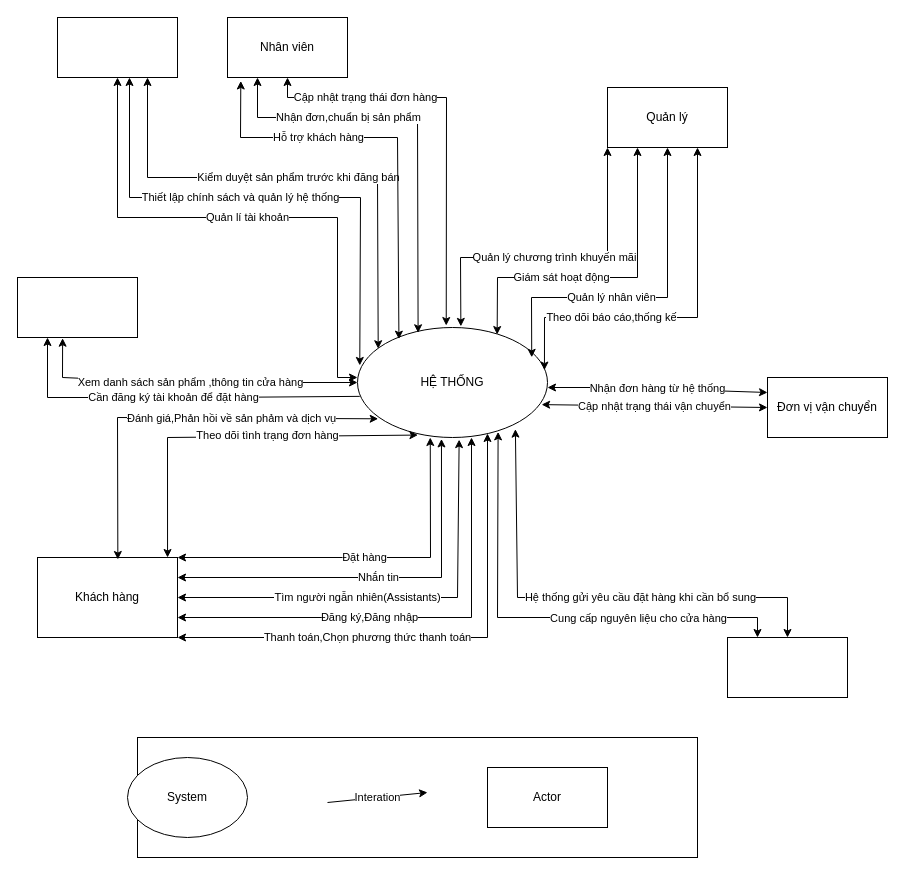
This 905x875 diagram has some shape labels left out. Here are the shapes that lost their labels. From the top down, the centre of each, then its label:
At point 117,47: "Admin".
At point 77,307: "Guest".
At point 787,667: "Nhà cung cấp".
